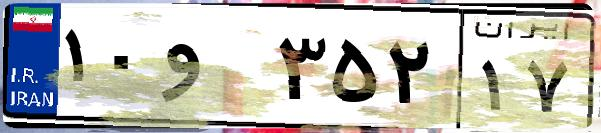0: (110, 28, 158, 98)
1: (57, 26, 110, 100), (475, 38, 525, 113)
2: (385, 28, 445, 110)
3: (270, 28, 330, 110)
5: (330, 28, 385, 110)
7: (525, 38, 570, 115)
و: (158, 20, 270, 120)
